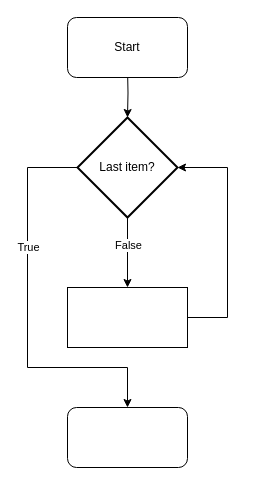
The diagram is 253 pixels wide and 485 high, and some of its shapes have lost their labels. The centre of each missing label's shape, as x and y in pixels:
"Done" goes at (x=127, y=437).
"Run code" goes at (x=127, y=317).
